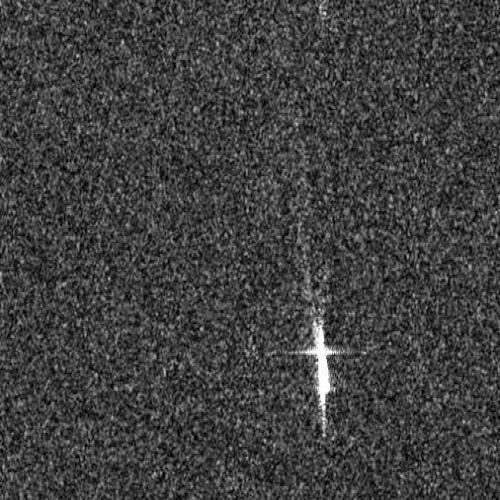ship: (312, 314, 331, 404)
